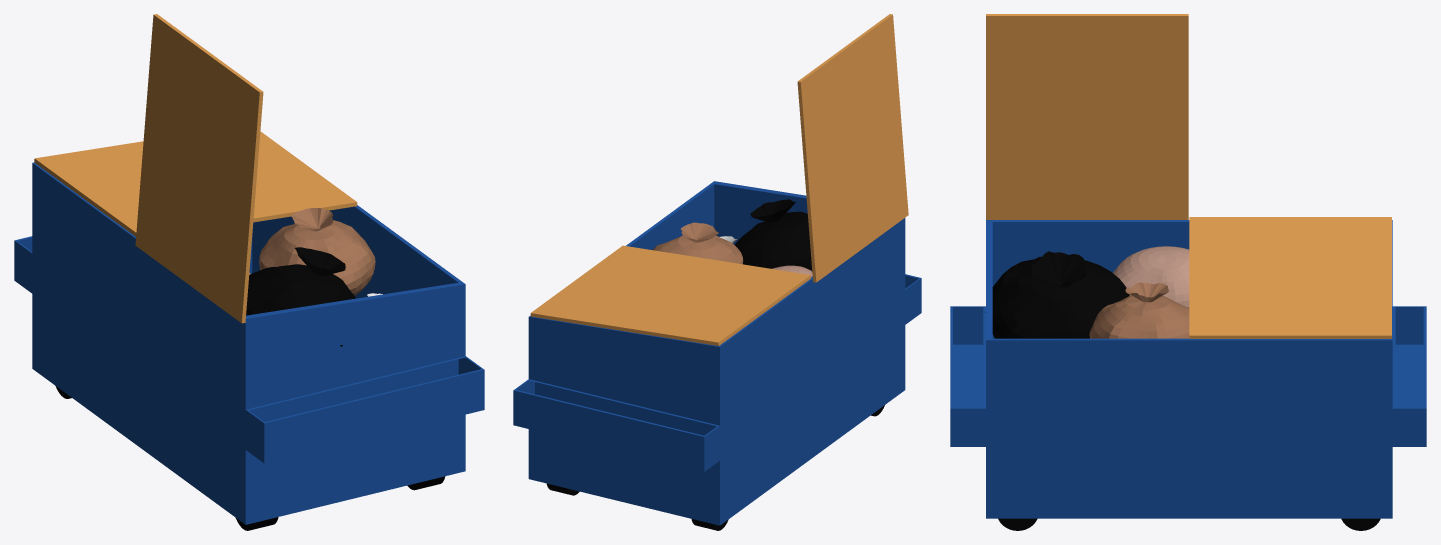
The model's file is Garbage box.fbx.
3 views of the same model, side by side, from view 1: azimuth 30°, elevation 25°; view 2: azimuth 150°, elevation 25°; view 3: azimuth 270°, elevation 25° (orthographic). The views are drawn at different scales.
Visible parts, largest first — view 1: Cube, Plane.001, Plane, Sphere.001, Sphere.002, Cylinder; view 2: Cube, Plane.001, Plane, Sphere.002, Sphere.001; view 3: Cube, Plane.001, Plane, Sphere.002, Sphere.001, Sphere.004, Cylinder.
Boxes of the visible parts, x1=… form: Cube: x1=14, y1=162, x2=484, y2=524; Plane.001: x1=135, y1=14, x2=263, y2=323; Plane: x1=34, y1=131, x2=357, y2=236; Sphere.001: x1=259, y1=208, x2=375, y2=295; Sphere.002: x1=246, y1=247, x2=355, y2=346; Cylinder: x1=55, y1=386, x2=445, y2=530; Cube: x1=513, y1=181, x2=921, y2=525; Plane.001: x1=797, y1=14, x2=908, y2=282; Plane: x1=530, y1=245, x2=811, y2=345; Sphere.002: x1=735, y1=199, x2=812, y2=271; Sphere.001: x1=652, y1=222, x2=743, y2=264; Cube: x1=950, y1=220, x2=1426, y2=518; Plane.001: x1=986, y1=14, x2=1188, y2=219; Plane: x1=1189, y1=217, x2=1391, y2=338; Sphere.002: x1=985, y1=251, x2=1129, y2=338; Sphere.001: x1=1089, y1=282, x2=1189, y2=338; Sphere.004: x1=1113, y1=246, x2=1189, y2=307; Cylinder: x1=998, y1=518, x2=1380, y2=530.
Size of the model in its own units: 340 by 687 by 657.
